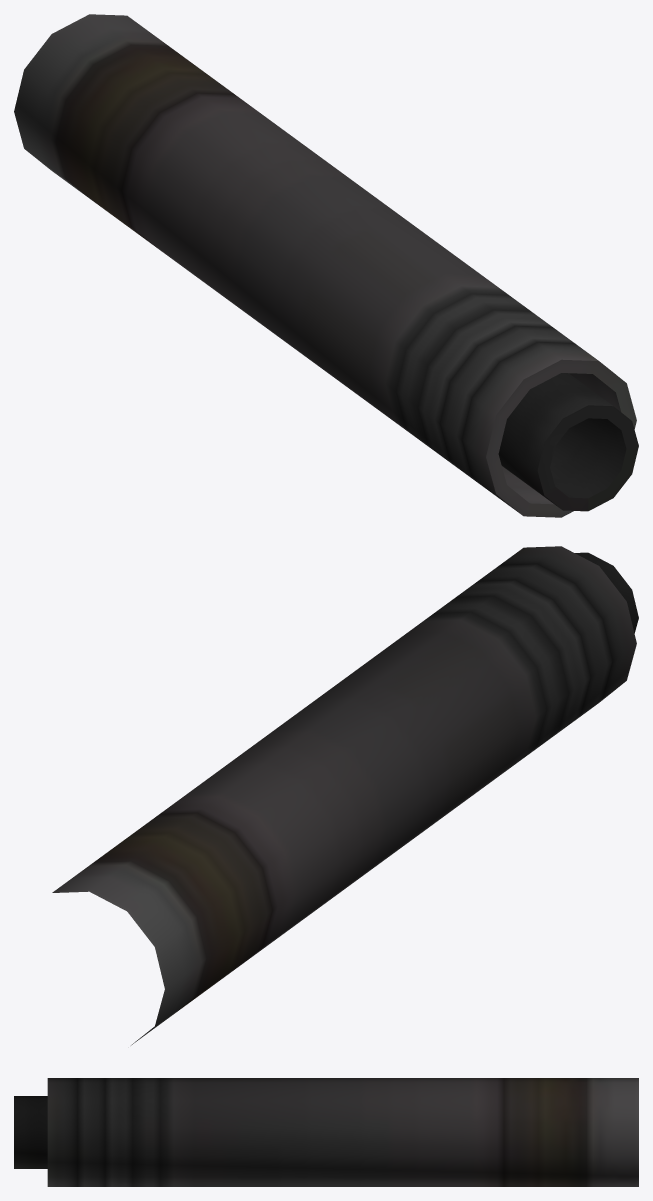
The model's file is ScifiMechMGBarrel.glb.
3 views of the same model, one above another, from view 1: azimuth 30°, elevation 25°; view 2: azimuth 150°, elevation 25°; view 3: azimuth 270°, elevation 25° (orthographic). The views are drawn at different scales.
Parts seen in each view (by area): view 1: ScifiMechMGBarrel; view 2: ScifiMechMGBarrel; view 3: ScifiMechMGBarrel.
Boxes of the visible parts, <box> form: ScifiMechMGBarrel: <box>14,14,638,517</box>; ScifiMechMGBarrel: <box>52,546,638,1045</box>; ScifiMechMGBarrel: <box>14,1078,638,1186</box>.
Size of the model in its own units: 0.00134 by 0.00134 by 0.0077.
1 material, 1 textured.
